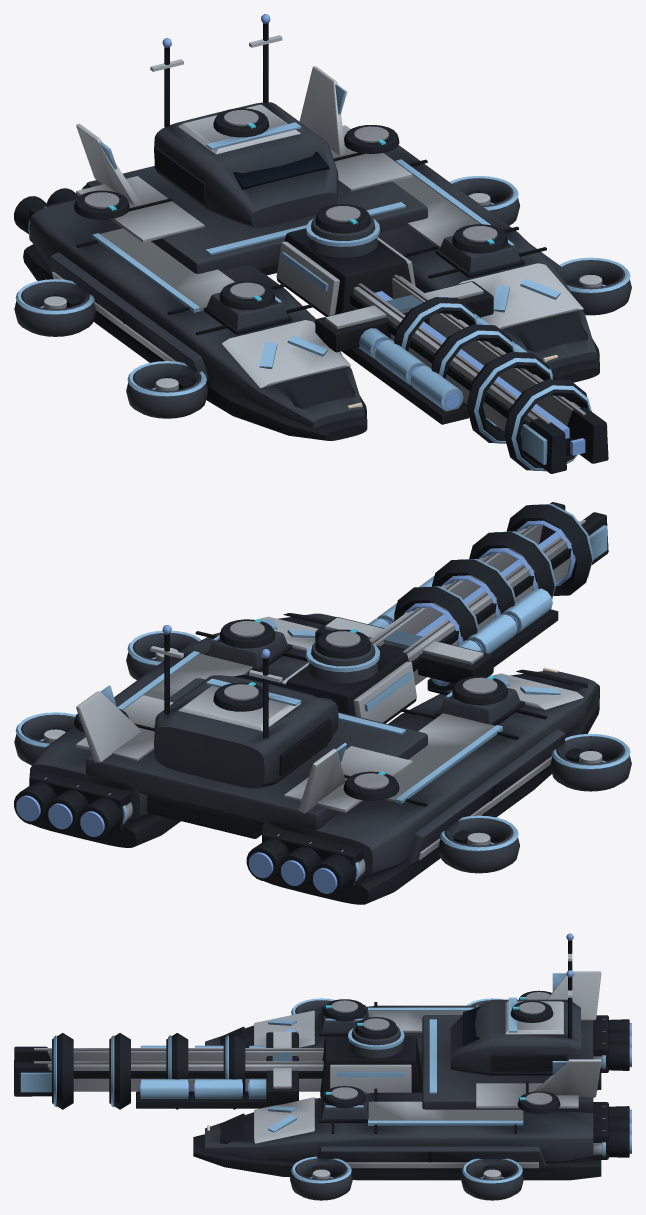
The model's file is ex_lancer_10.glb.
The picture shows the model from 3 angles, top to bottom: view 1: azimuth 30°, elevation 25°; view 2: azimuth 150°, elevation 25°; view 3: azimuth 270°, elevation 25°; orthographic projection. The views are drawn at different scales.
Parts seen in each view (by area): view 1: body; view 2: body; view 3: body.
Part boxes in pixels (x1,y1,x2,y2): body: (14, 14, 631, 473); body: (14, 502, 631, 904); body: (14, 933, 631, 1200).
Bounding box in the file's own units: 13.47 × 5.71 × 19.05.
